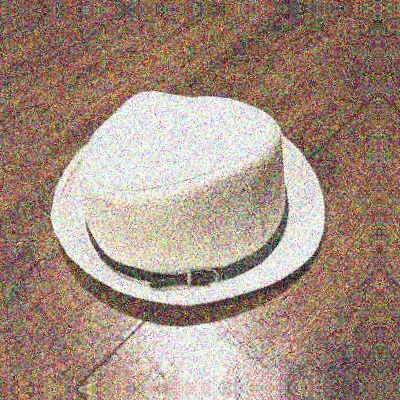Hat: (6, 72, 340, 316)
